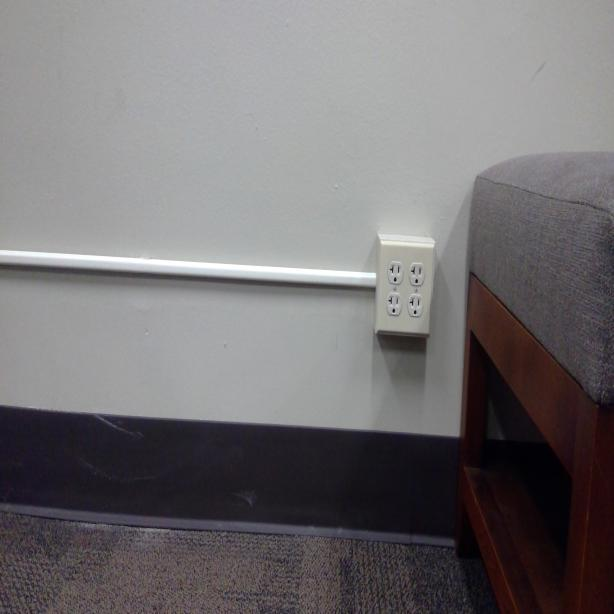typeb: (388, 262, 404, 287), (386, 294, 402, 317), (410, 265, 425, 289), (409, 296, 421, 320)
